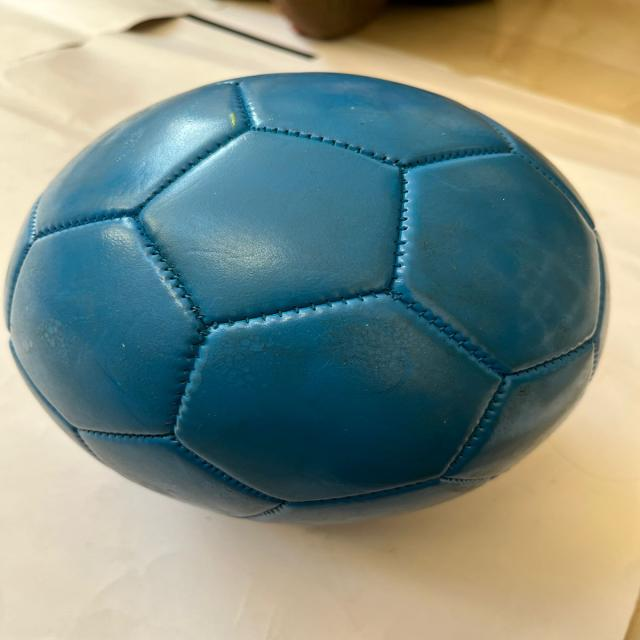blue_ball: (2, 56, 634, 558)
